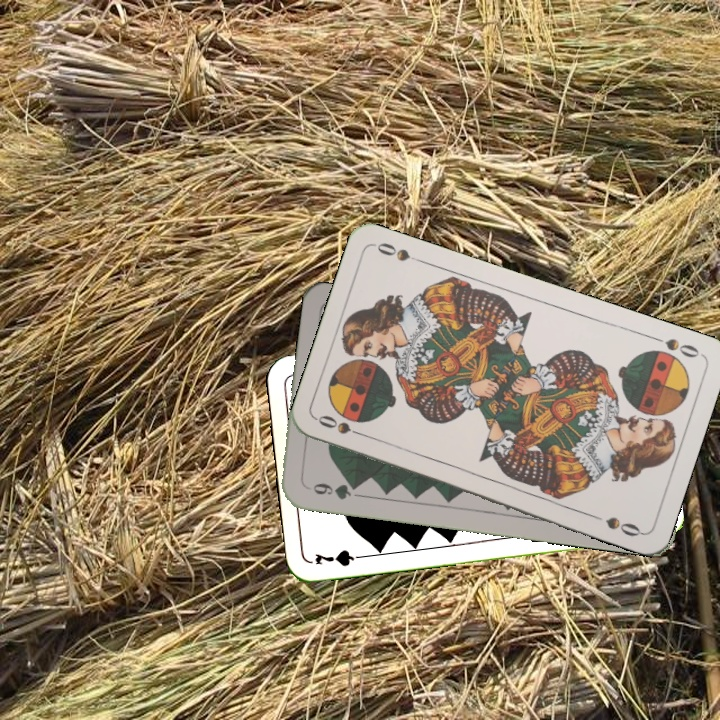G7: (311, 546, 370, 569)
G9: (303, 479, 362, 503)
SO: (314, 411, 371, 441), (647, 332, 704, 360)
